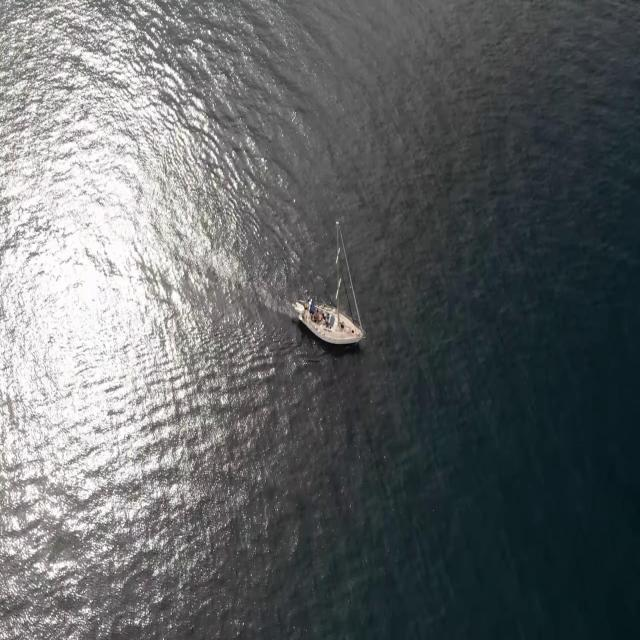sailboat: (295, 220, 369, 349)
